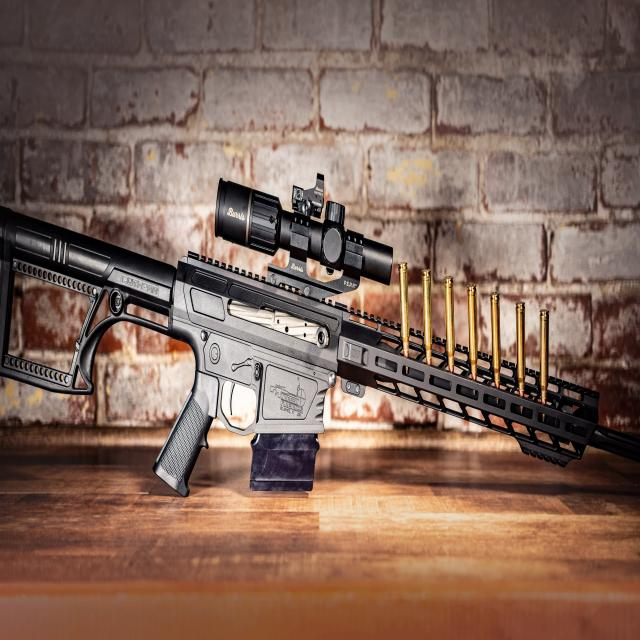Rifle: (0, 177, 621, 497)
